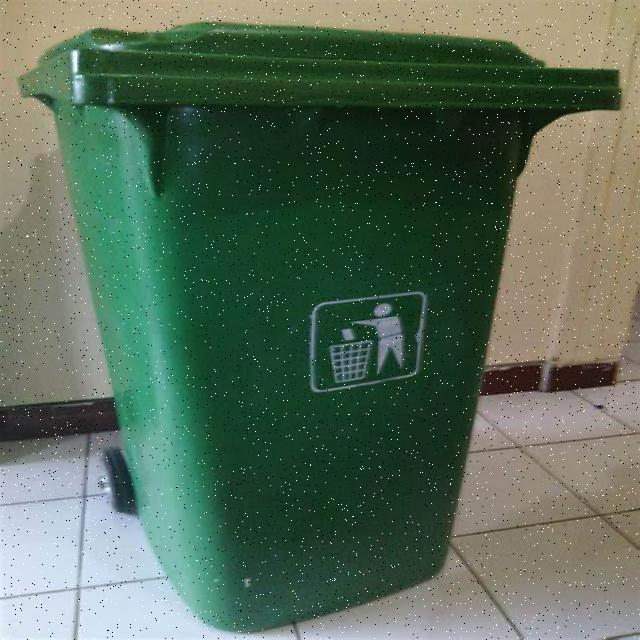garbage container: (25, 11, 640, 626)
